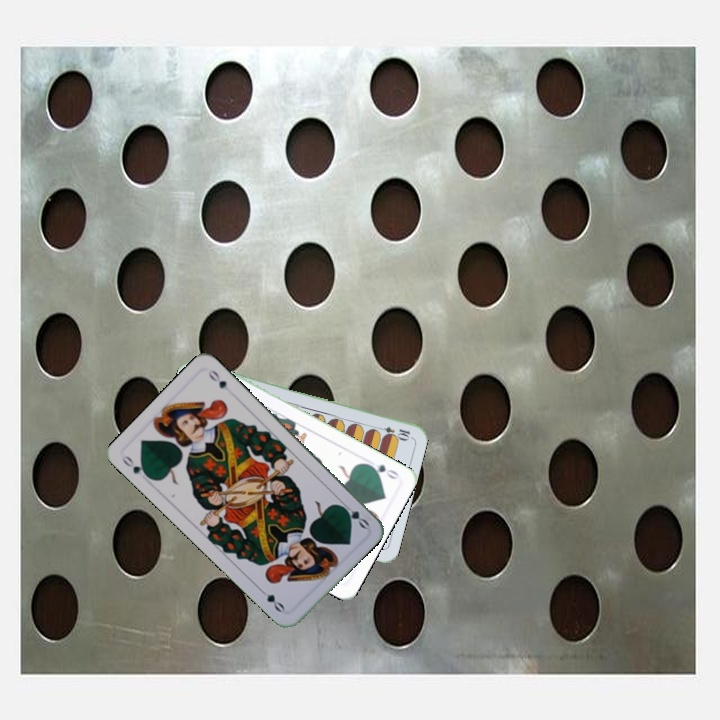E10: (372, 422, 413, 441)
GO: (336, 498, 372, 531), (118, 451, 154, 481), (363, 460, 401, 482)
